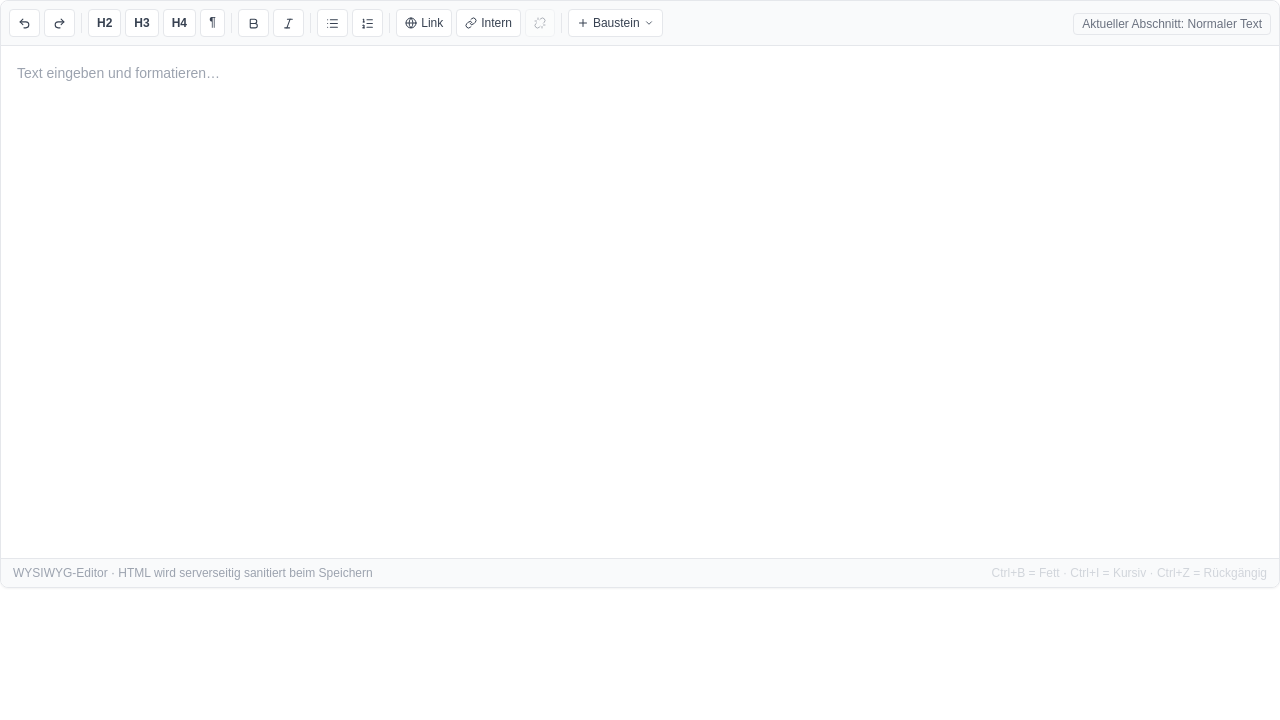
AdminRichTextEditor: URL-Sicherheit im Link-Panel › Fehlermeldung wird bei erneuter URL-Eingabe zurückgesetzt
Press the mouse on the button titled "Externer Link" at [424, 23], box [396,9,452,37]
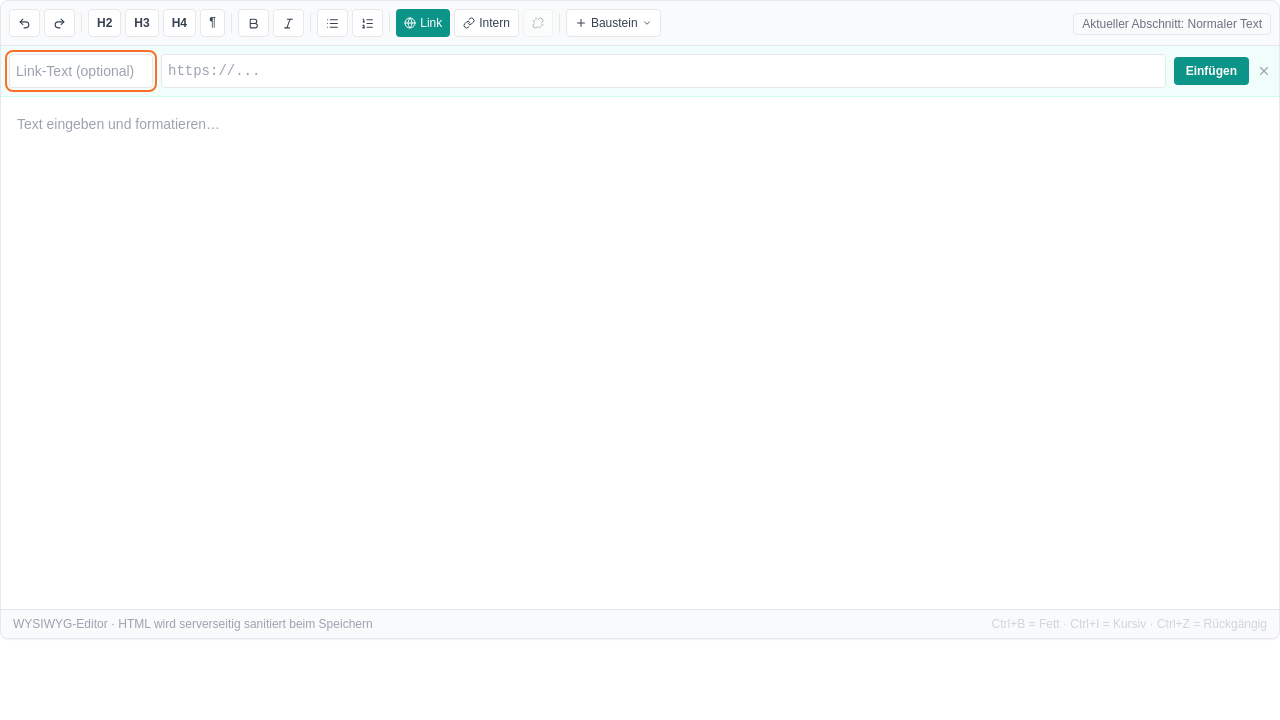
Erst ungültige URL eingeben
Type "javascript:void(0)" into the field with placeholder "https://..." at [663, 71], box [161,54,1166,88]
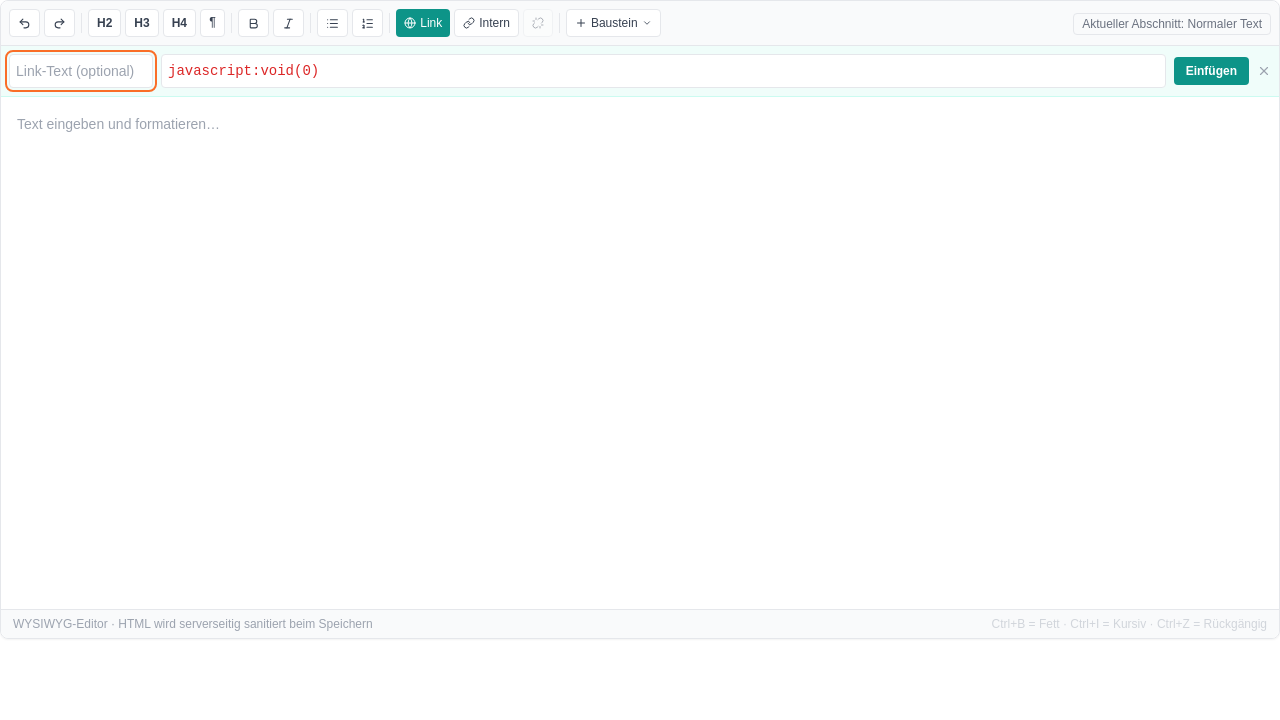
Click the button "Einfügen" at [1211, 71], box [1174,57,1249,85]
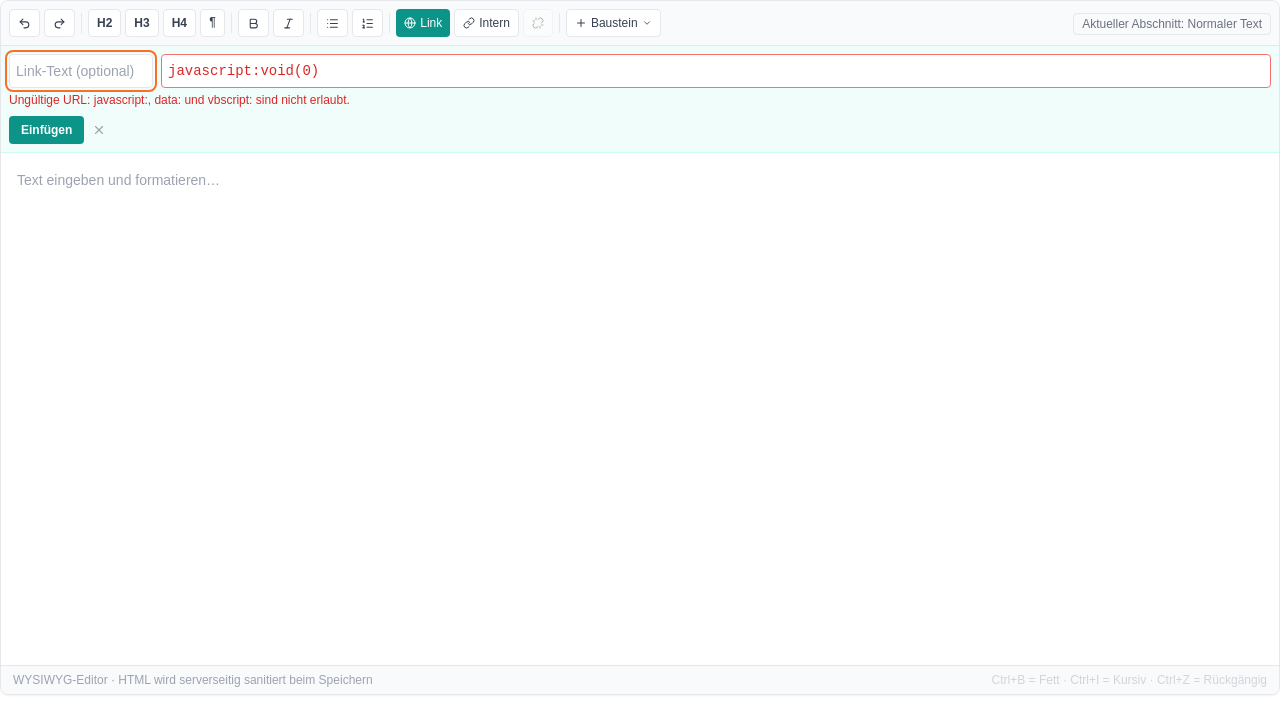
Expected: the message "Ungültige URL: javascript:, data: und vbscript: sind nicht erlaubt." is shown, [9,93,350,107]
Dann gültige URL eingeben — Fehler verschwindet
Replace the text in the field with placeholder "https://..." with "https://kursnavi.ch" at [716, 71], box [161,54,1271,88]
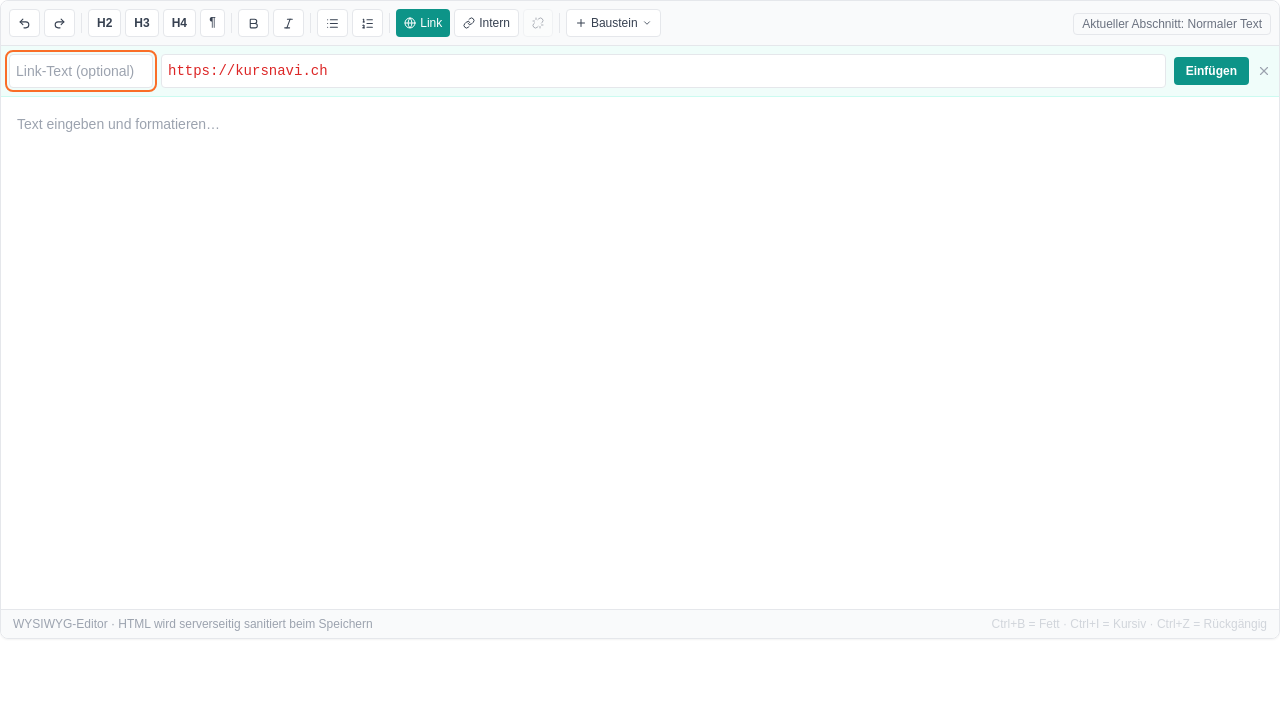
Expected: the message "Ungültige URL: javascript:, data: und vbscript: sind nicht erlaubt." is gone
